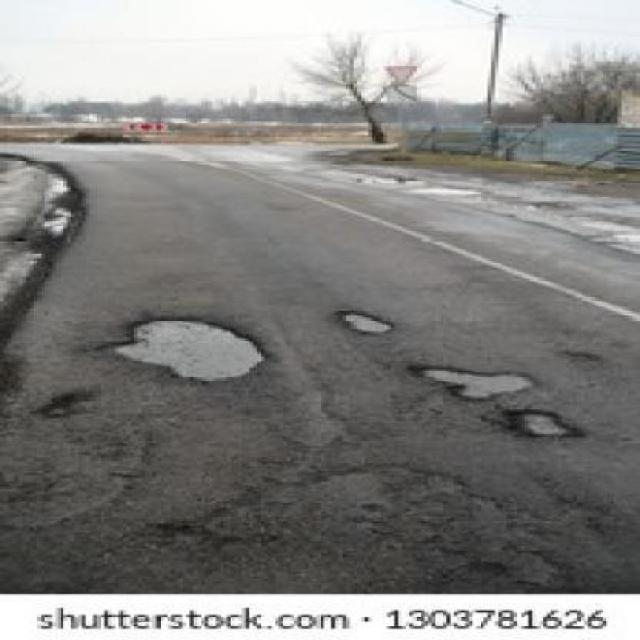Buraco: (89, 312, 276, 388), (403, 362, 543, 405), (498, 406, 589, 442), (333, 307, 399, 338)
